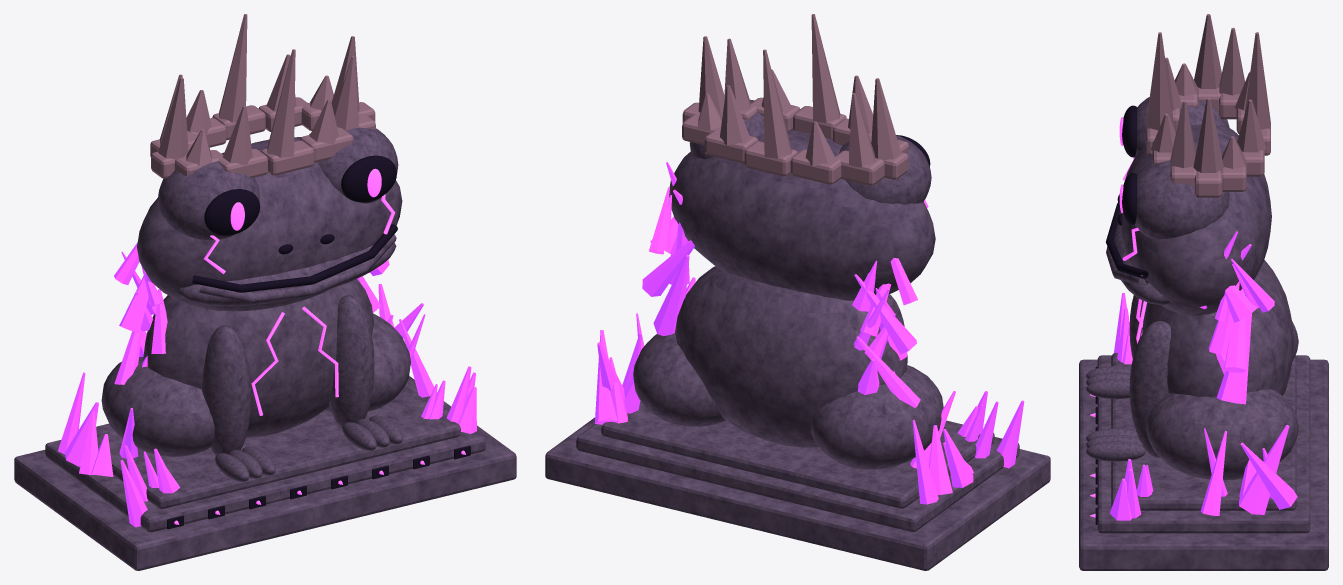
File: corrupt-realm.glb
3 renders of one model, left to right at view 1: azimuth 30°, elevation 25°; view 2: azimuth 150°, elevation 25°; view 3: azimuth 270°, elevation 25°, orthographic.
Parts seen in each view (by area): view 1: Baked fractured violet basalt, Tarnished crown alloy, Amethyst corruption shards, Obsidian carved recess, Living violet fracture veins; view 2: Baked fractured violet basalt, Tarnished crown alloy, Amethyst corruption shards; view 3: Baked fractured violet basalt, Tarnished crown alloy, Amethyst corruption shards, Obsidian carved recess, Living violet fracture veins.
Part boxes in pixels (x1,y1,x2,y2): Baked fractured violet basalt: (14, 127, 516, 570); Tarnished crown alloy: (150, 14, 375, 178); Amethyst corruption shards: (58, 242, 476, 527); Obsidian carved recess: (167, 155, 470, 529); Living violet fracture veins: (174, 168, 465, 524); Baked fractured violet basalt: (545, 99, 1050, 570); Tarnished crown alloy: (682, 14, 909, 185); Amethyst corruption shards: (594, 162, 1024, 504); Baked fractured violet basalt: (1079, 97, 1328, 570); Tarnished crown alloy: (1146, 14, 1270, 197); Amethyst corruption shards: (1110, 231, 1297, 520); Obsidian carved recess: (1095, 105, 1148, 524); Living violet fracture veins: (1090, 117, 1146, 517).
Size of the model in its own units: 9.6 by 10.71 by 5.4.
Materials: 5 (1 with a texture image).
